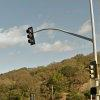Traffic light: (18, 19, 43, 54)
